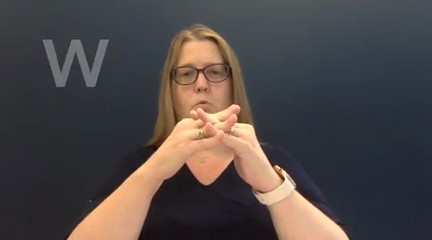W: (144, 100, 272, 188)
